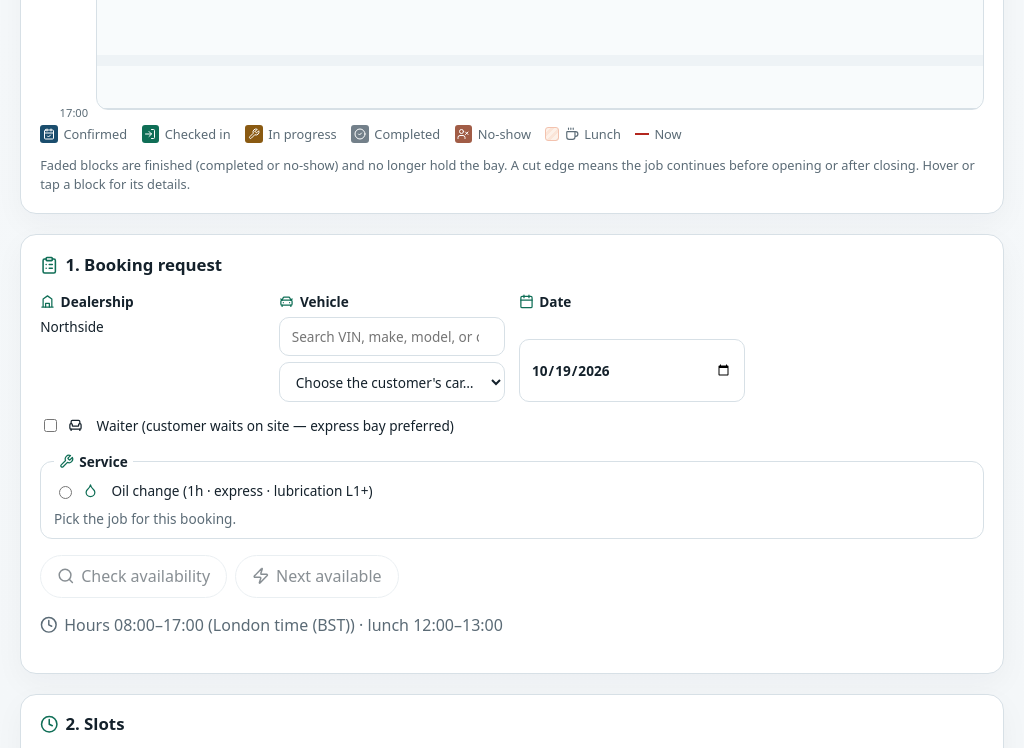
Test case: App › moves the board between days without touching the grid or the picked slot
This screenshot has width=1024, height=748.
(page scrolled)
Select "2020 Toyota Yaris — Casey" in the dropdown named "Vehicle" at (392, 382), box [280,362,505,402]
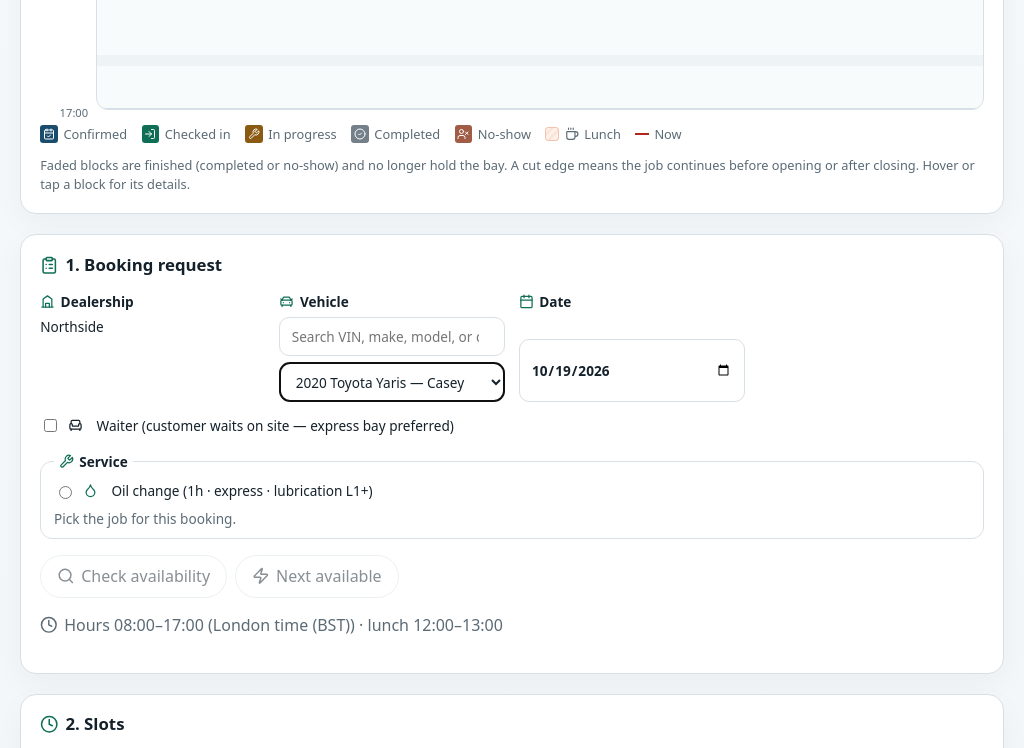
Click the radio button labelled "Oil change (1h · express · lubrication L1+)".
click(66, 492)  # box [59,486,72,499]
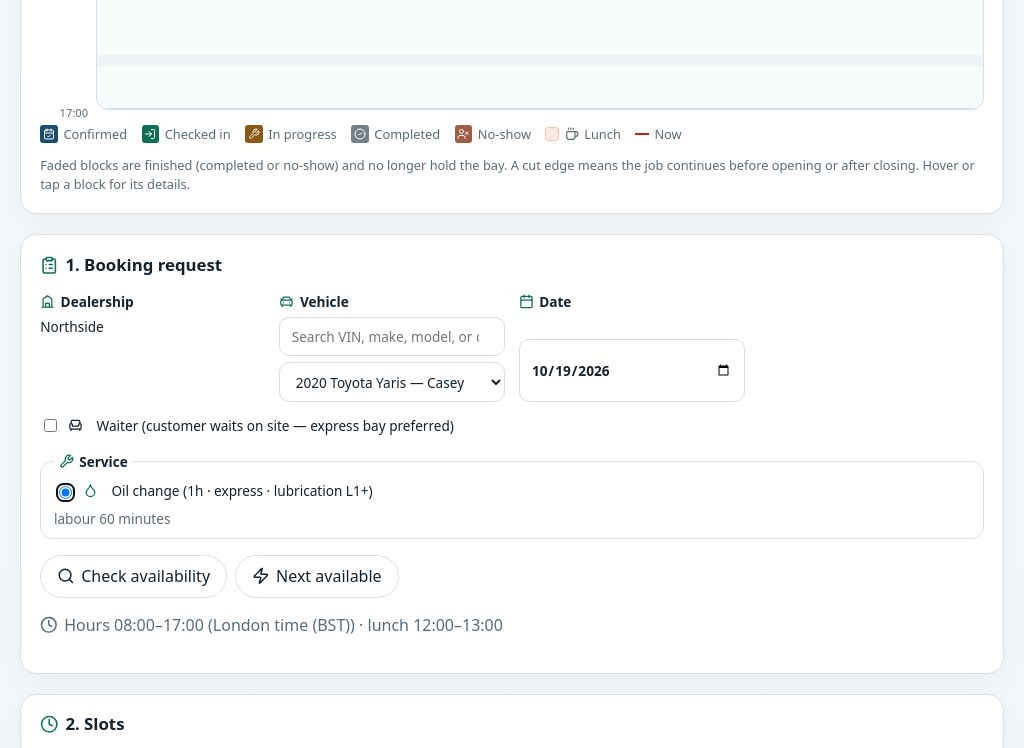
Check: the button "Check availability" is enabled
Click the button "Check availability".
click(134, 576)  # box [40,555,227,598]
(page scrolled)
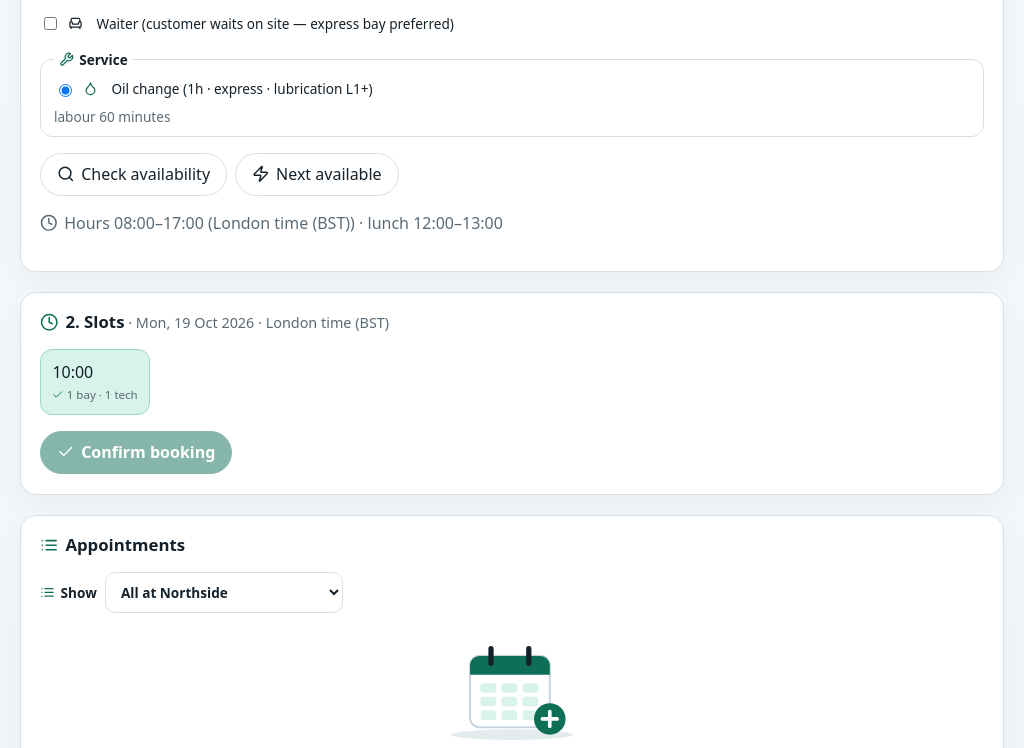
Check: the heading "2. Slots · Mon, 19 Oct 2026 · London time (BST)" is shown, box [40,310,389,334]
Click the button "10:00 1 bay · 1 tech".
click(95, 382)  # box [40,349,150,415]
(page scrolled)
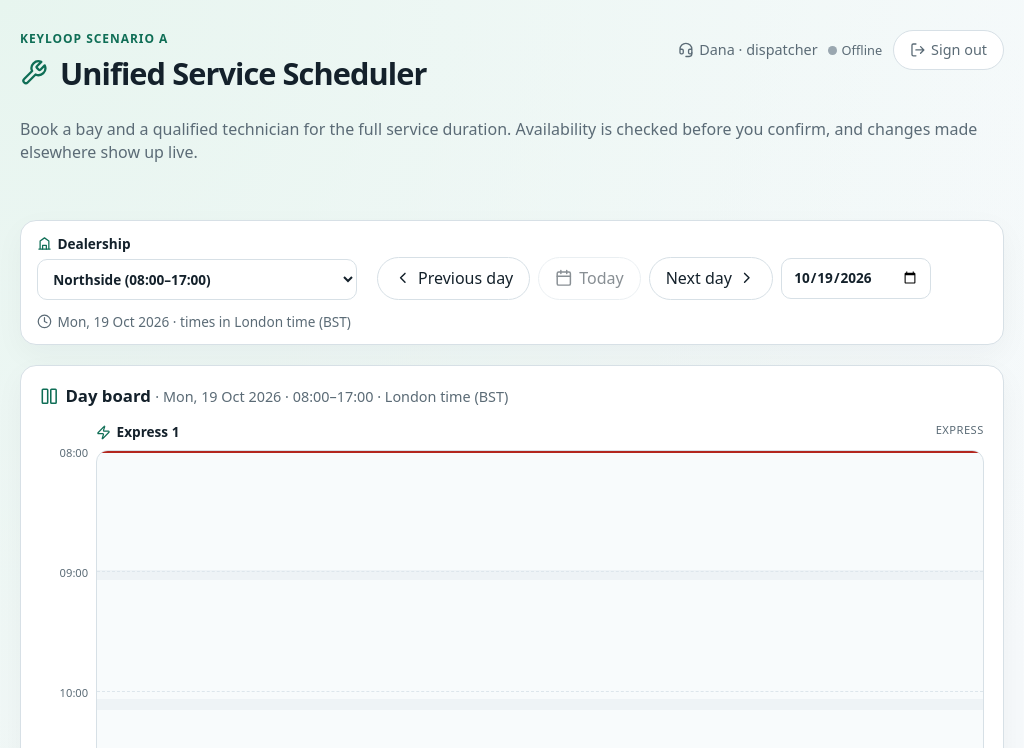
Click the button "Next day".
click(711, 278)  # box [649,257,773,300]
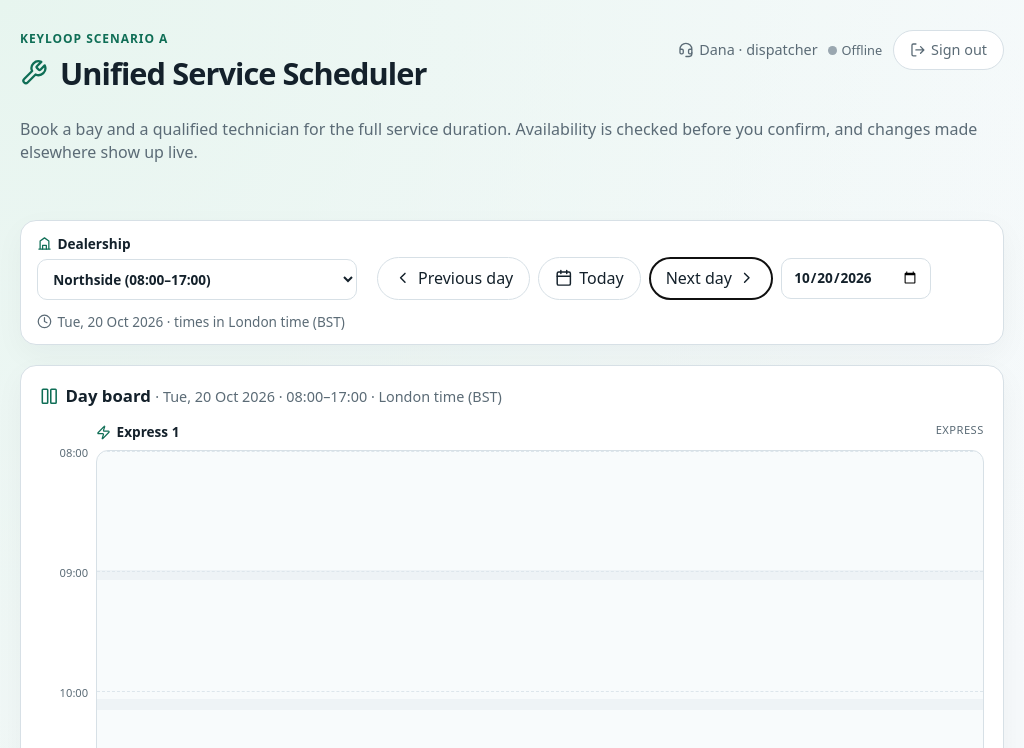
Check: the heading "Day board · Tue, 20 Oct 2026" is shown, box [40,384,502,407]
Click the button "Today".
click(590, 278)  # box [538,257,641,300]
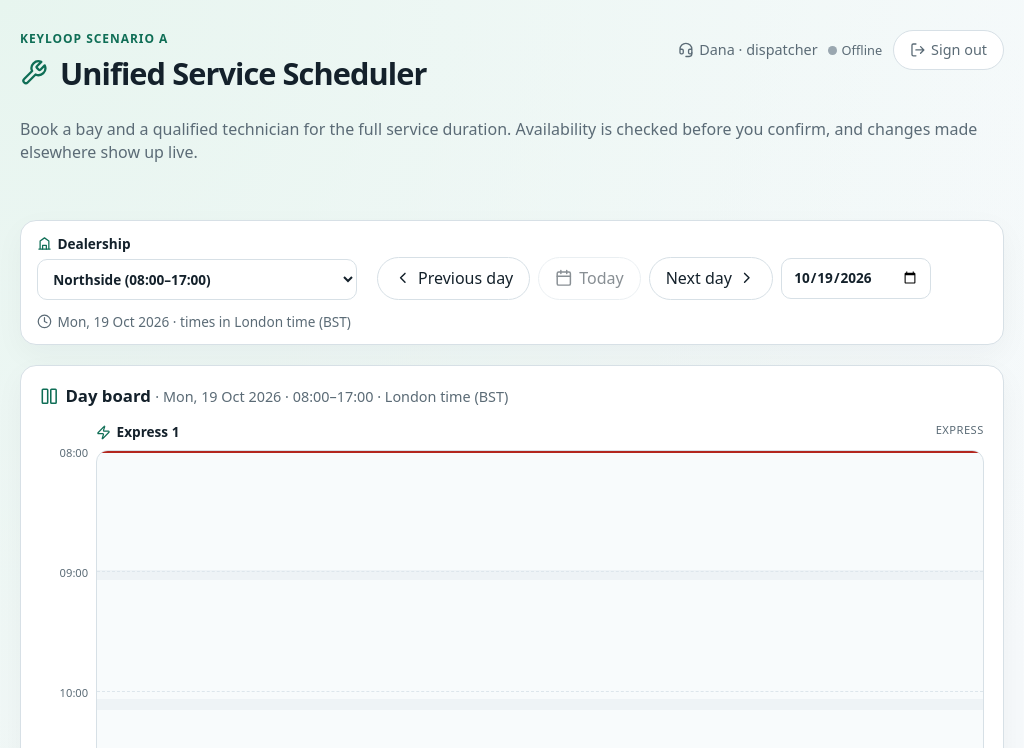
Check: the heading "Day board · Mon, 19 Oct 2026" is shown, box [40,384,508,407]
